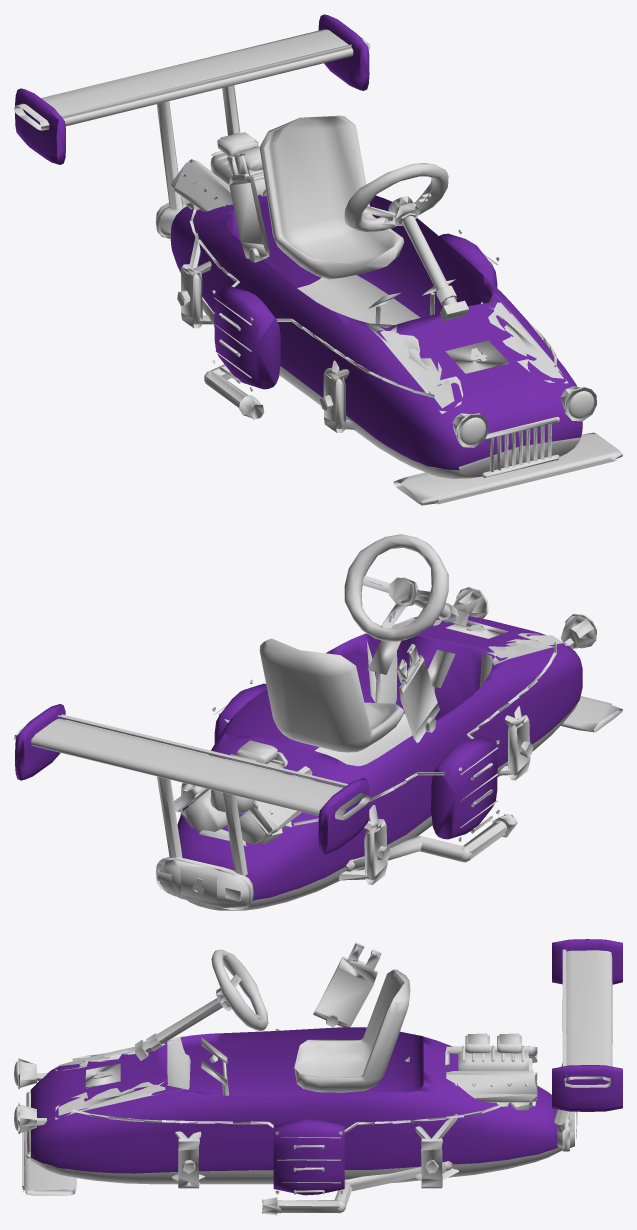
Rendered from Kart_StreetGT_Far.fbx.
3 renders of one model, top to bottom at view 1: azimuth 30°, elevation 25°; view 2: azimuth 150°, elevation 25°; view 3: azimuth 270°, elevation 25°, orthographic. The views are drawn at different scales.
Visible parts, largest first — view 1: Kart_Far; view 2: Kart_Far; view 3: Kart_Far.
Part boxes in pixels (x1,y1,x2,y2): Kart_Far: (14, 14, 622, 505); Kart_Far: (14, 534, 622, 910); Kart_Far: (14, 939, 622, 1215).
Size of the model in its own units: 0.9123 by 0.6466 by 1.72.
